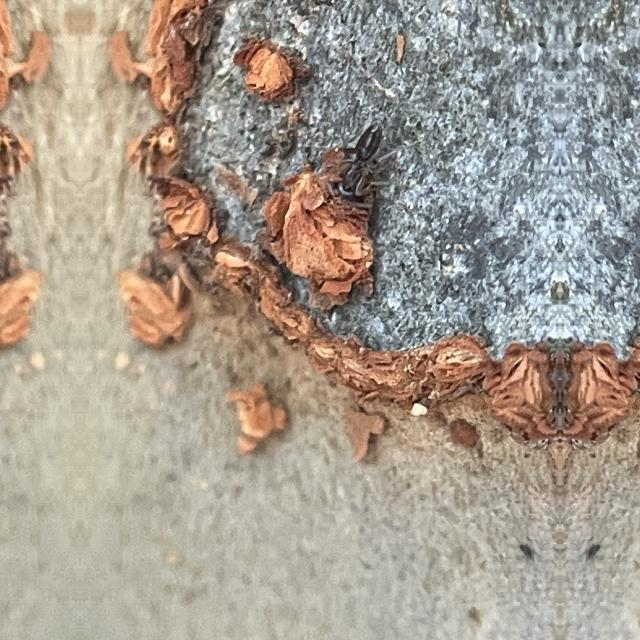Tapinoma: (324, 113, 388, 215)
